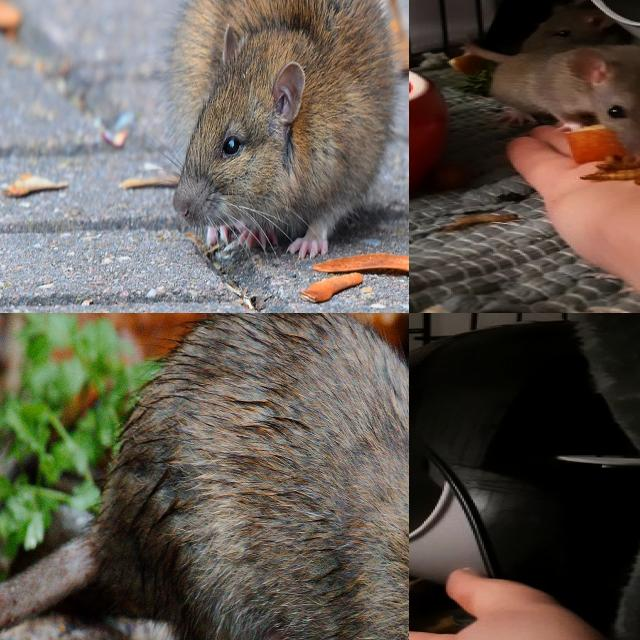rat: (111, 313, 409, 640), (174, 0, 394, 259), (486, 45, 640, 165)
